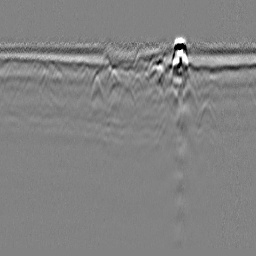cavity: (115, 81, 140, 119)
